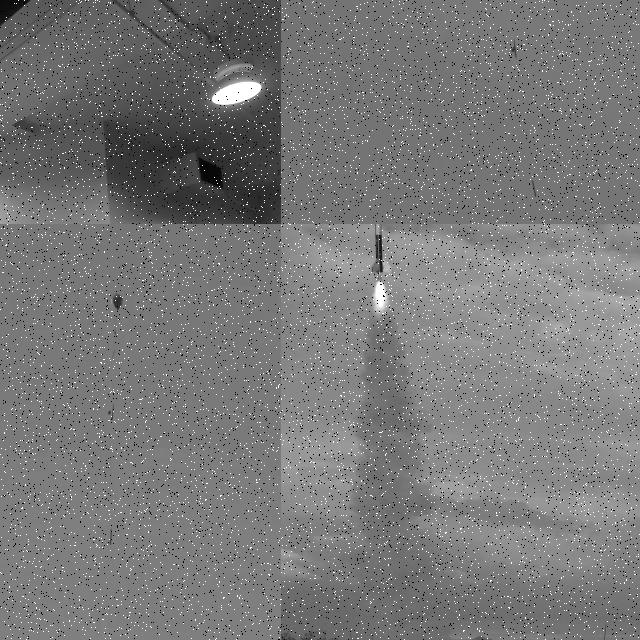Rocket: (370, 224, 394, 276), (532, 179, 538, 197), (110, 528, 112, 546)
